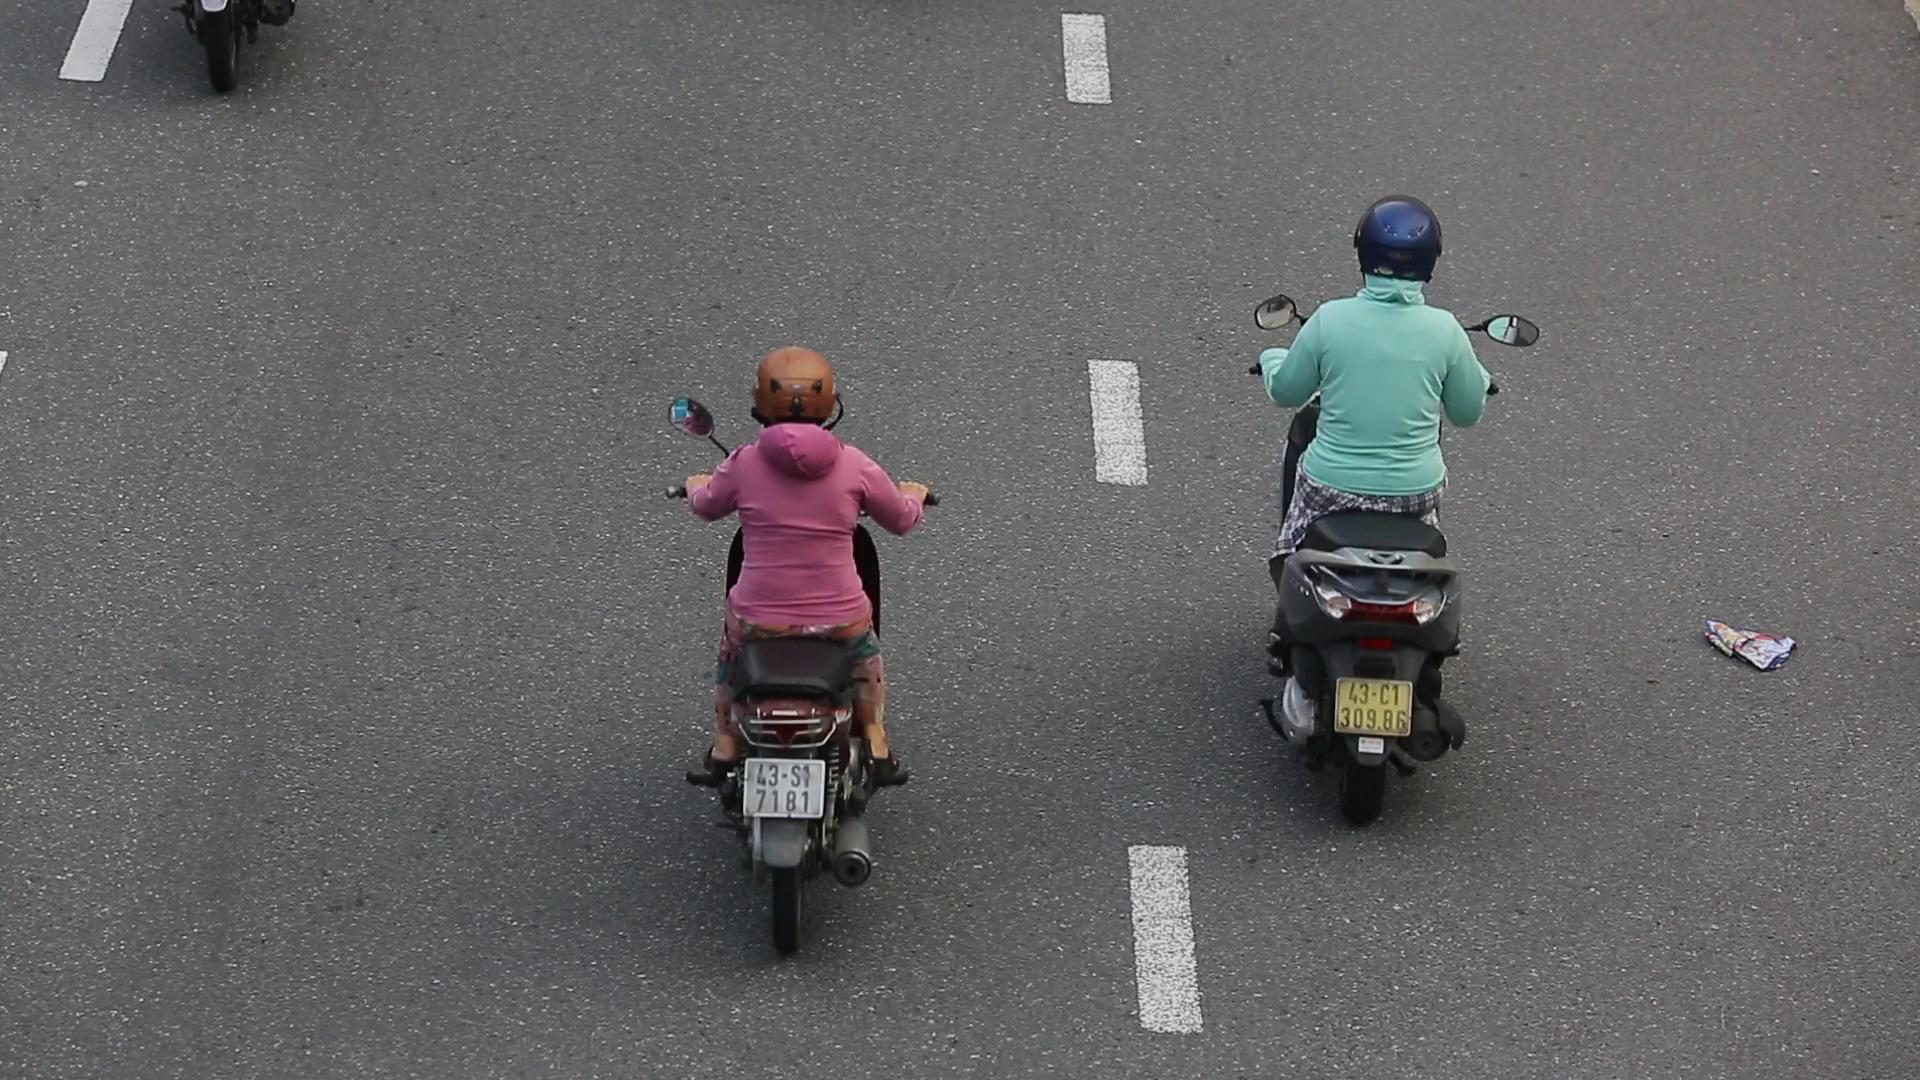motobike: (1245, 177, 1538, 828), (657, 326, 947, 959)
